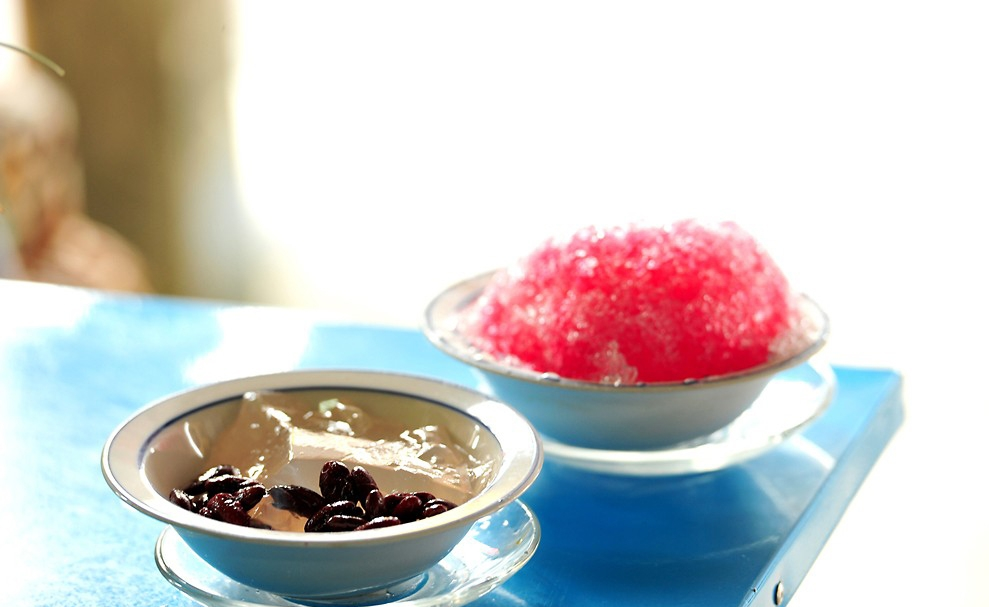O-eo: (421, 207, 840, 466)
